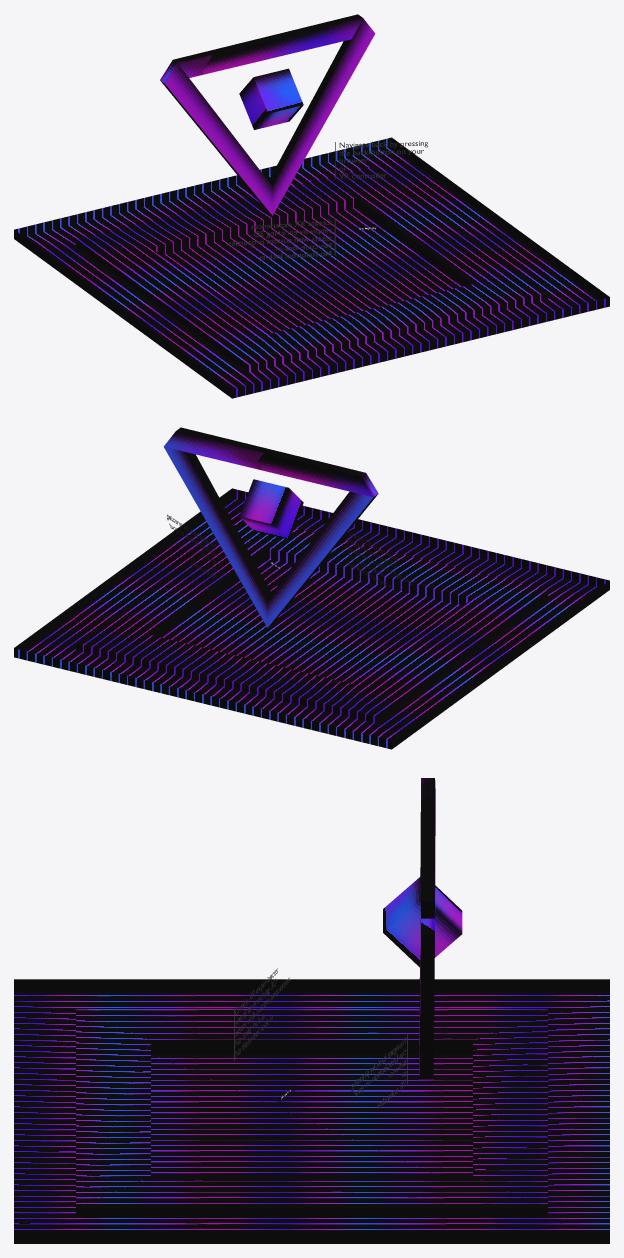
File: other.gltf
The picture shows the model from 3 angles, top to bottom: view 1: azimuth 30°, elevation 25°; view 2: azimuth 150°, elevation 25°; view 3: azimuth 270°, elevation 25°; orthographic projection. The views are drawn at different scales.
Visible parts, largest first — view 1: floor.001, art_triangle, Cube, Text.024, Text.025; view 2: floor.001, art_triangle, Cube, Text.024, Text.025; view 3: floor.001, art_triangle, Cube, Text.024, Text.025.
Boxes of the visible parts, x1,y1,x2,y2 form: floor.001: (14, 137, 609, 398); art_triangle: (160, 14, 375, 215); Cube: (239, 68, 303, 129); Text.024: (227, 219, 331, 259); Text.025: (339, 141, 427, 178); floor.001: (14, 488, 609, 749); art_triangle: (163, 427, 378, 627); Cube: (239, 479, 303, 539); Text.024: (348, 530, 412, 589); Text.025: (167, 514, 215, 578); floor.001: (14, 979, 609, 1243); art_triangle: (419, 778, 435, 1079); Cube: (383, 876, 462, 967); Text.024: (235, 968, 290, 1057); Text.025: (351, 1037, 405, 1108).
Size of what is drawn, in the model's own units: 44.52 by 23.22 by 44.52.
Materials: 5 (1 with a texture image).
